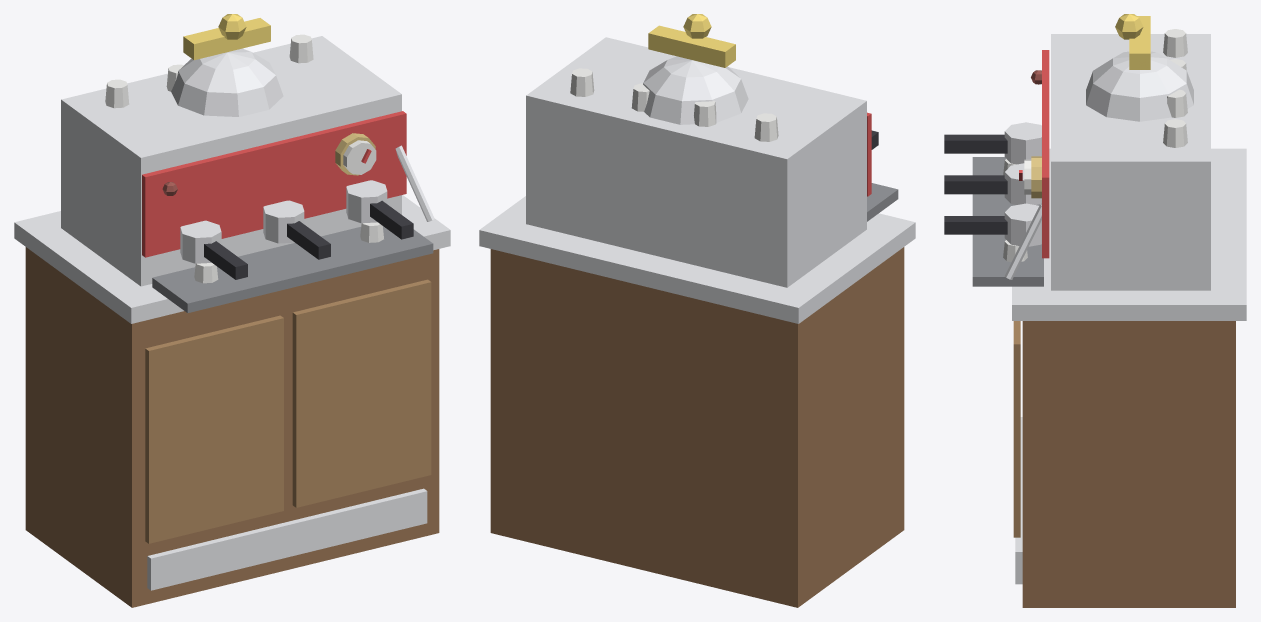
The model's file is HJ_Cafetera.fbx.
3 renders of one model, left to right at view 1: azimuth 30°, elevation 25°; view 2: azimuth 150°, elevation 25°; view 3: azimuth 270°, elevation 25°, orthographic.
Visible parts, largest first — view 1: HJ_Cafetera; view 2: HJ_Cafetera; view 3: HJ_Cafetera.
Boxes of the visible parts, x1,y1,x2,y2 form: HJ_Cafetera: (14,14,450,607); HJ_Cafetera: (479,14,915,607); HJ_Cafetera: (944,14,1246,607).
Size of the model in its own units: 1.04 by 1.61 by 0.85.
